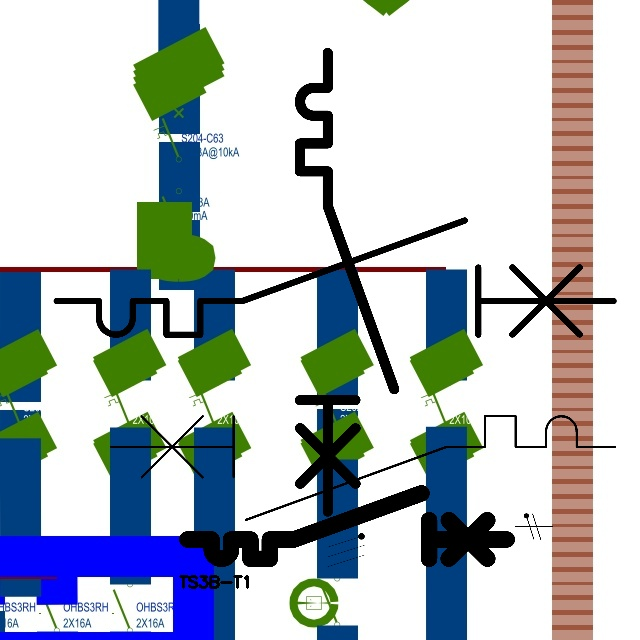interruptor_termomagnetico: (42, 206, 628, 349), (98, 403, 628, 533), (288, 41, 406, 523), (179, 485, 515, 567)
